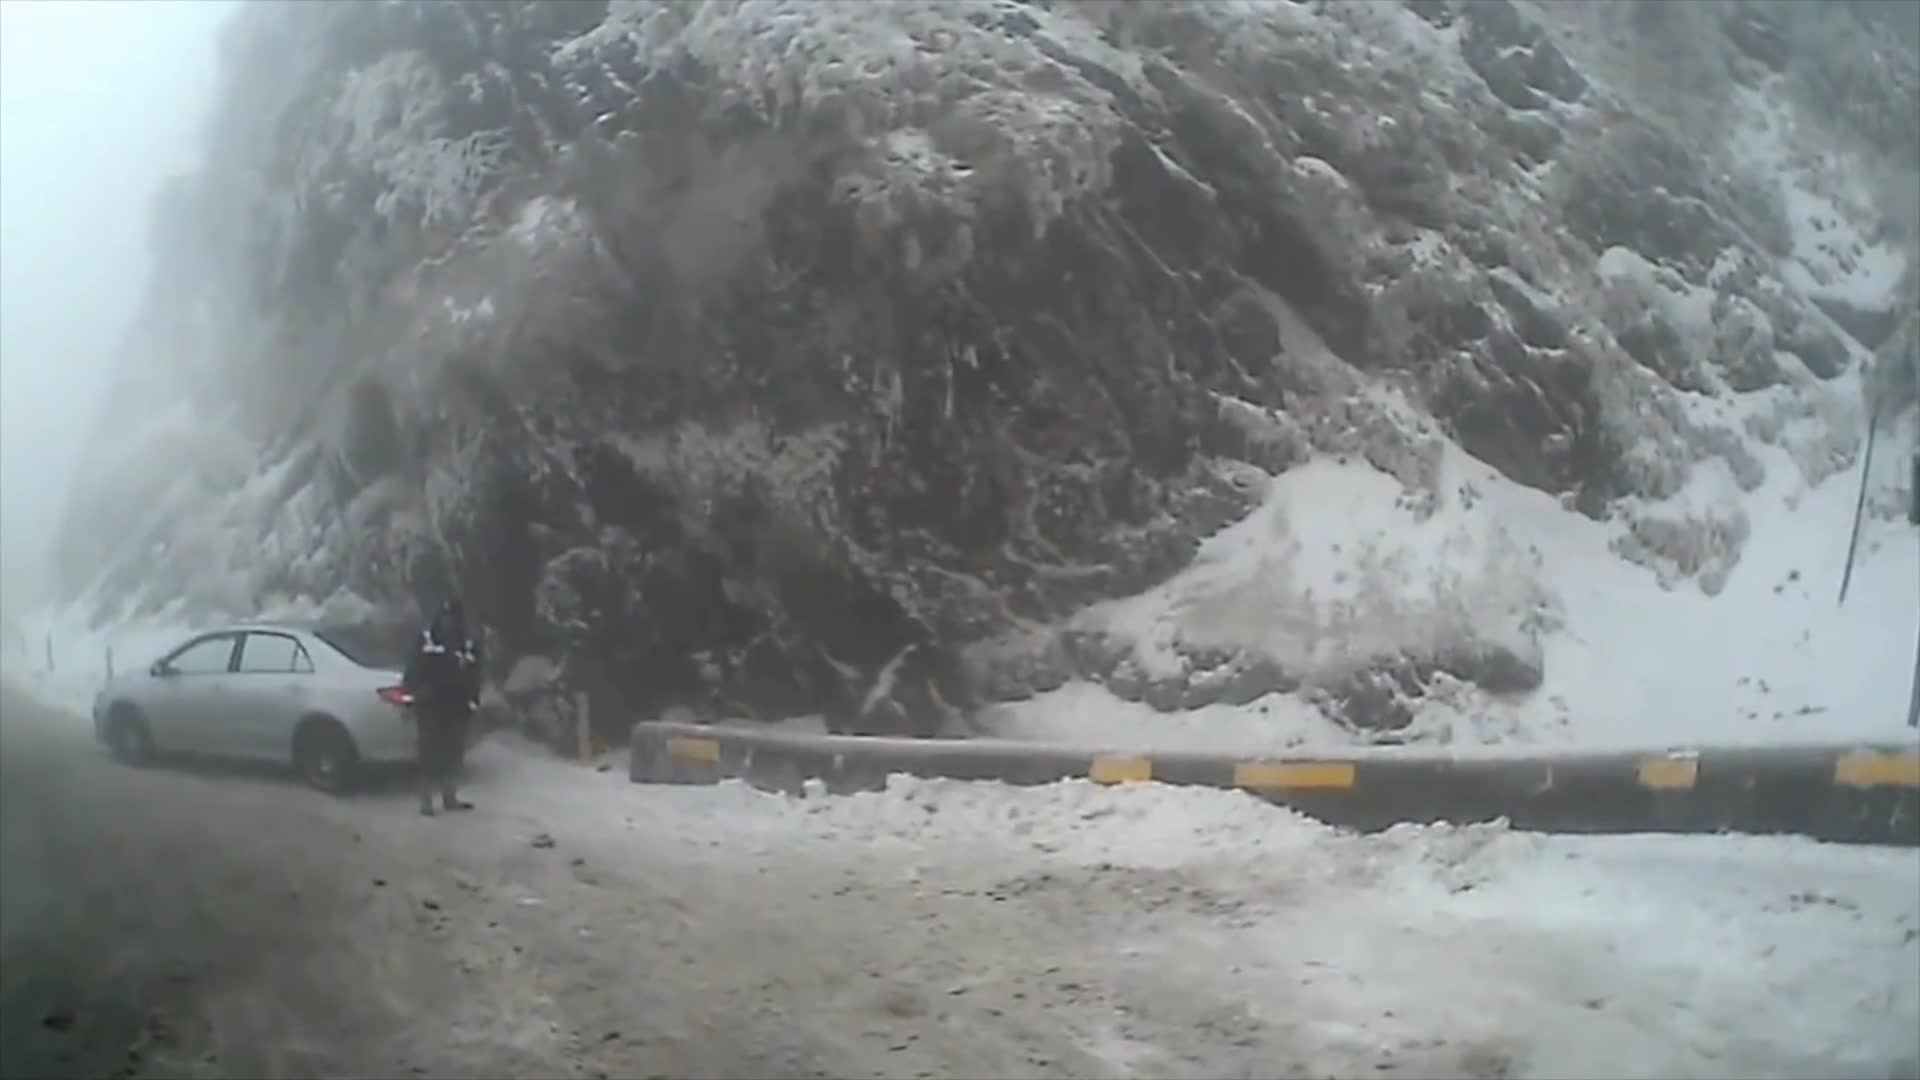pedestrian: (405, 597, 488, 817)
vehicle: (93, 620, 486, 801)
